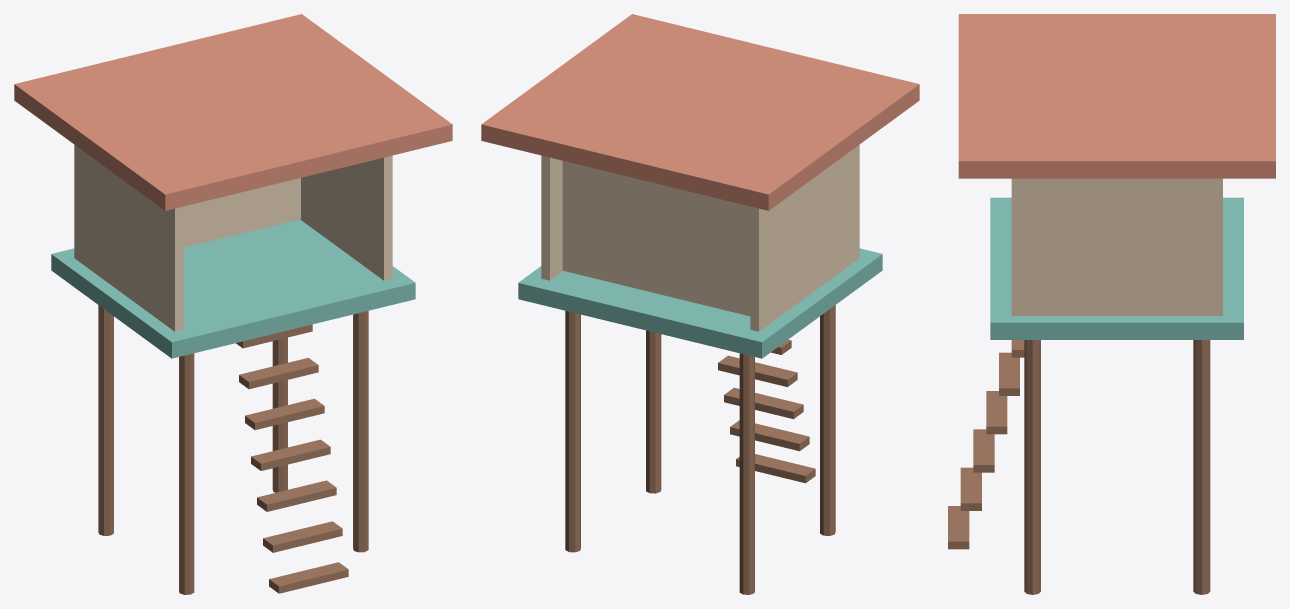
File: lifeguardTower.obj
3 views of the same model, side by side, from view 1: azimuth 30°, elevation 25°; view 2: azimuth 150°, elevation 25°; view 3: azimuth 270°, elevation 25° (orthographic). The views are drawn at different scales.
Parts seen in each view (by area): view 1: lifeguardTower; view 2: lifeguardTower; view 3: lifeguardTower.
Boxes of the visible parts, x1=… form: lifeguardTower: x1=14, y1=14, x2=452, y2=594; lifeguardTower: x1=481, y1=14, x2=919, y2=594; lifeguardTower: x1=948, y1=14, x2=1275, y2=594.
Size of the model in its own units: 3.3 by 4.79 by 3.1.
